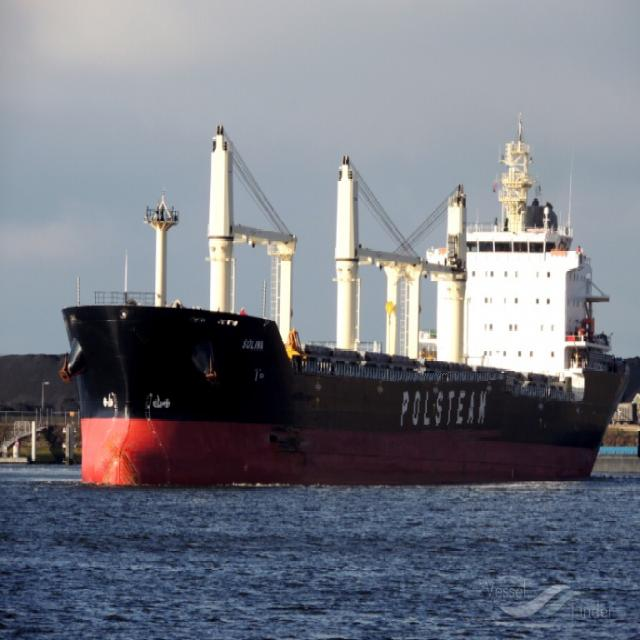OCR: (394, 373, 508, 448)
